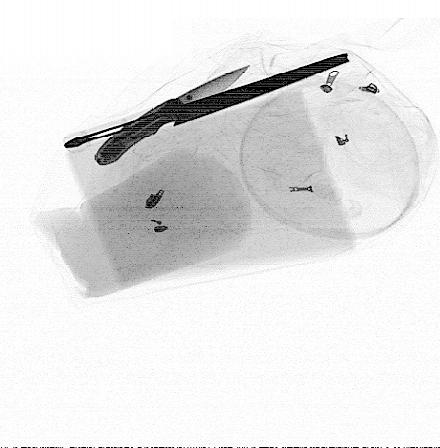Knife: (63, 51, 350, 149), (93, 64, 252, 166)
